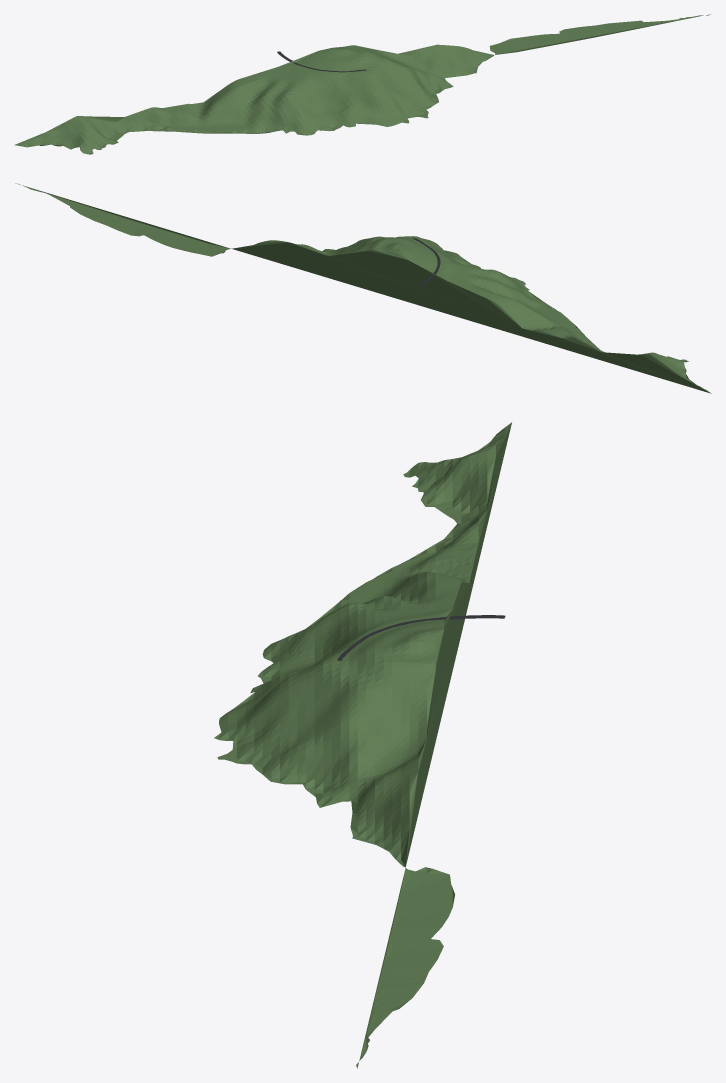
Rendered from tile_9_2.glb.
The picture shows the model from 3 angles, top to bottom: view 1: azimuth 30°, elevation 25°; view 2: azimuth 150°, elevation 25°; view 3: azimuth 270°, elevation 25°; orthographic projection. The views are drawn at different scales.
Visible parts, largest first — view 1: grn_9_2; view 2: grn_9_2; view 3: grn_9_2.
Boxes of the visible parts, x1,y1,x2,y2 form: grn_9_2: (14,14,710,154); grn_9_2: (15,183,711,393); grn_9_2: (214,422,511,1068).
Bounding box in the file's own units: 1410 × 86.89 × 276.
